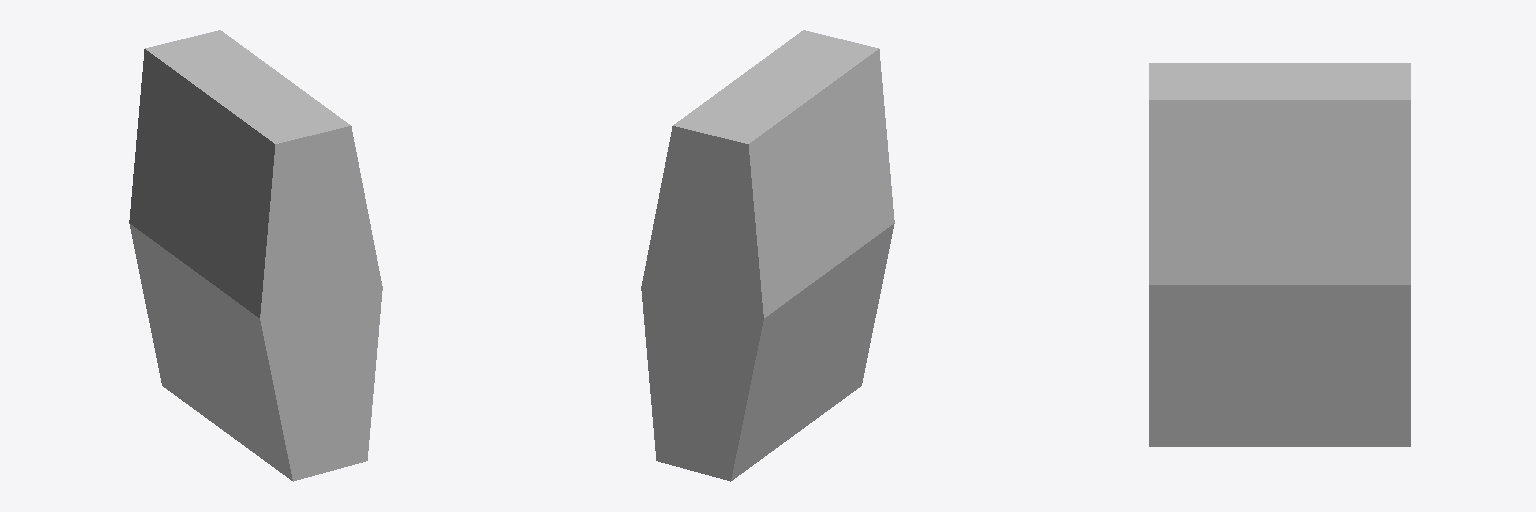
Rendered from should_pad.obj.
3 renders of one model, left to right at view 1: azimuth 30°, elevation 25°; view 2: azimuth 150°, elevation 25°; view 3: azimuth 270°, elevation 25°, orthographic.
Visible parts, largest first — view 1: Cube.003_Cube.007; view 2: Cube.003_Cube.007; view 3: Cube.003_Cube.007.
Boxes of the visible parts, x1=… form: Cube.003_Cube.007: x1=129, y1=30, x2=382, y2=481; Cube.003_Cube.007: x1=641, y1=30, x2=894, y2=481; Cube.003_Cube.007: x1=1149, y1=63, x2=1410, y2=446.
Size of the model in its own units: 0.522 by 1.39 by 0.9646.